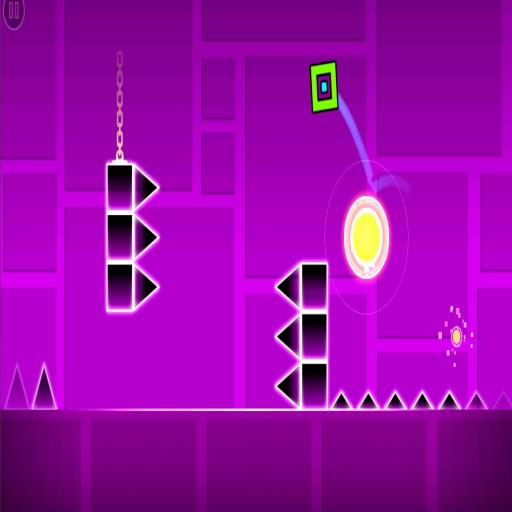block: (104, 160, 135, 316), (299, 258, 330, 412)
player: (310, 61, 338, 113)
spike: (32, 363, 56, 409), (5, 363, 29, 409), (275, 315, 300, 357), (275, 266, 299, 308), (276, 365, 300, 406), (135, 167, 159, 208), (135, 267, 159, 308), (136, 217, 159, 256), (466, 391, 487, 409), (439, 391, 460, 409), (358, 391, 379, 409), (412, 391, 433, 408), (385, 391, 406, 408), (331, 391, 351, 408), (494, 392, 512, 409)
